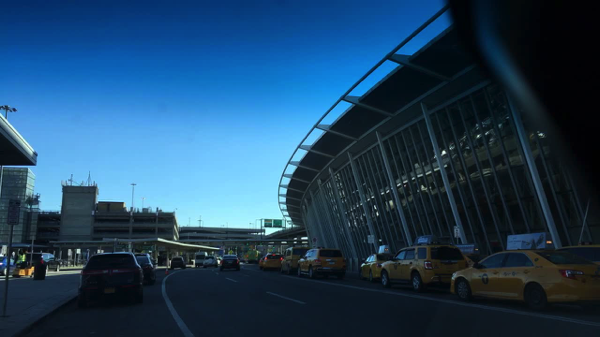car: (449, 232, 599, 309), (377, 234, 475, 291), (78, 253, 146, 306), (295, 247, 347, 279), (353, 245, 394, 281), (277, 247, 312, 273), (555, 245, 599, 264), (24, 251, 61, 271), (133, 251, 157, 270), (141, 255, 155, 283), (219, 255, 241, 272), (262, 253, 285, 269), (0, 256, 15, 276), (201, 255, 218, 269), (170, 257, 185, 270), (195, 253, 207, 267), (257, 255, 267, 266)
person: (15, 250, 27, 270)
traffic sign: (8, 206, 21, 228), (8, 198, 21, 206), (272, 219, 281, 230), (453, 225, 461, 237), (264, 218, 272, 228), (367, 235, 375, 244)
truck: (246, 251, 261, 264)
